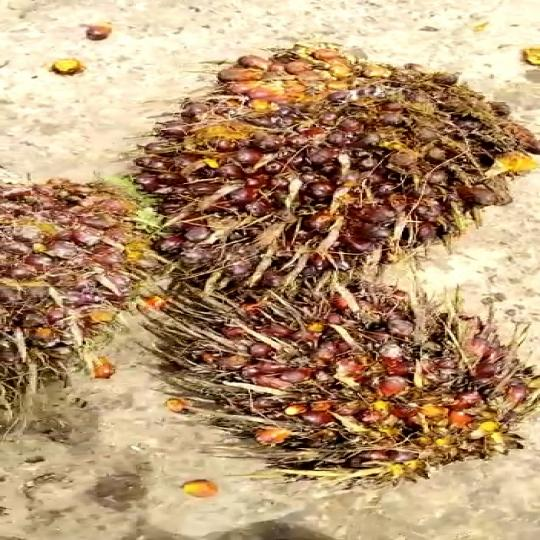masak: (127, 53, 540, 289), (138, 265, 540, 485)
